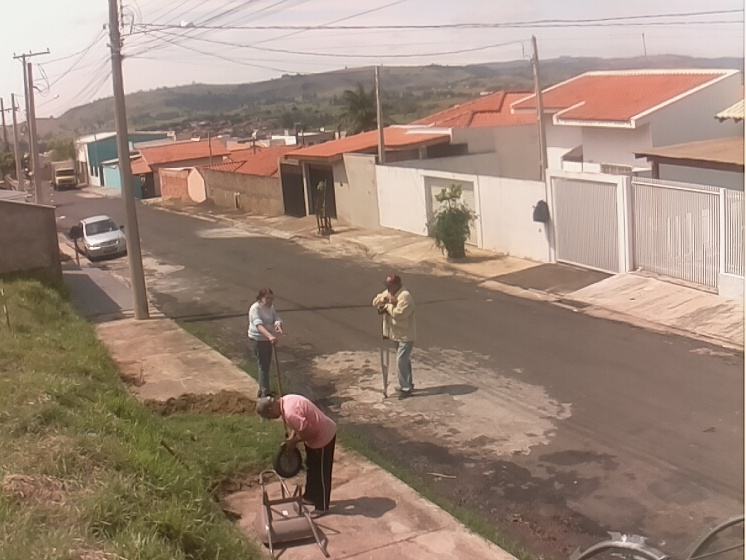person: (256, 393, 338, 516), (372, 275, 417, 395), (246, 288, 284, 397)
